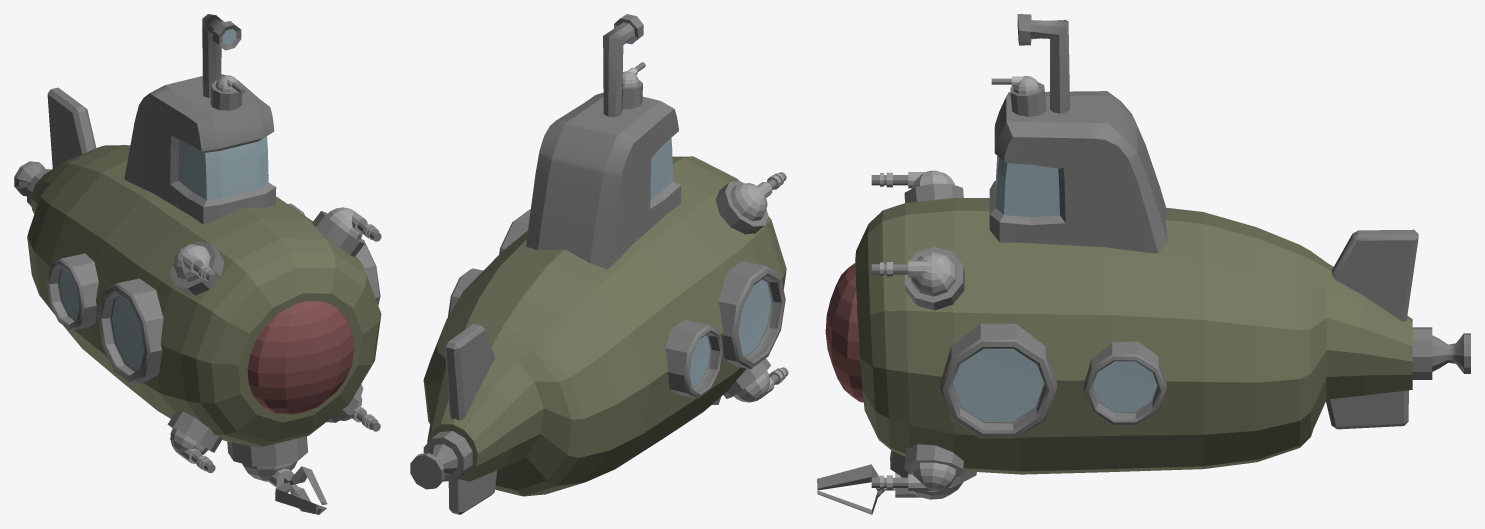
Rendered from Submarine with Grapple and Gun Upgrade 1 and 2.fbx.
3 renders of one model, left to right at view 1: azimuth 30°, elevation 25°; view 2: azimuth 150°, elevation 25°; view 3: azimuth 270°, elevation 25°, orthographic. The views are drawn at different scales.
Visible parts, largest first — view 1: Starting_Submarine, Gun_Upgrade_3, Grapple_upgrade, Gun_Upgrade_1; view 2: Starting_Submarine, Gun_Upgrade_3, Gun_Upgrade_1; view 3: Starting_Submarine, Gun_Upgrade_3, Gun_Upgrade_1, Grapple_upgrade.
Boxes of the visible parts, bbox=[...] form: Starting_Submarine: bbox=[14, 14, 381, 447]; Gun_Upgrade_3: bbox=[170, 207, 381, 295]; Grapple_upgrade: bbox=[227, 436, 327, 514]; Gun_Upgrade_1: bbox=[167, 384, 380, 473]; Starting_Submarine: bbox=[410, 14, 786, 514]; Gun_Upgrade_3: bbox=[715, 172, 786, 234]; Gun_Upgrade_1: bbox=[723, 358, 788, 402]; Starting_Submarine: bbox=[825, 14, 1470, 474]; Gun_Upgrade_3: bbox=[871, 170, 964, 310]; Gun_Upgrade_1: bbox=[871, 444, 963, 492]; Grapple_upgrade: bbox=[817, 450, 976, 514].
Size of the model in its own units: 4.28 by 7.55 by 9.03.
